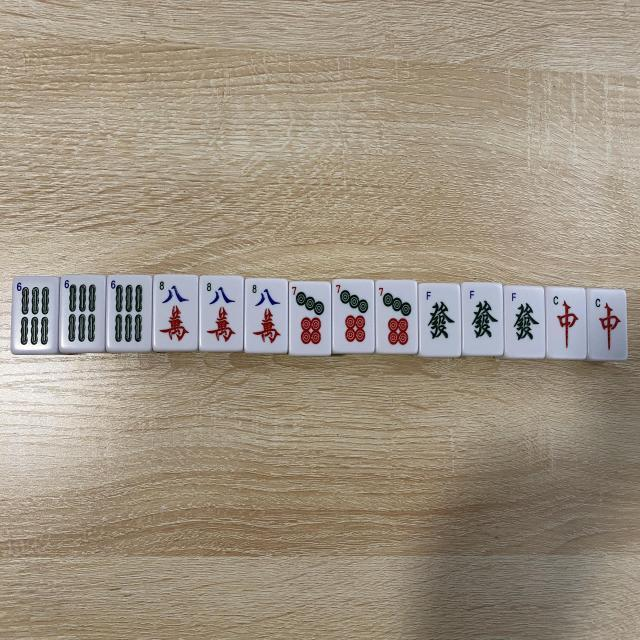hdg: (418, 284, 462, 356), (504, 286, 546, 358), (462, 283, 504, 355)
hdr: (546, 287, 587, 359), (586, 290, 628, 360)
sb6: (13, 278, 57, 353), (61, 276, 104, 352), (108, 278, 150, 350)
sc8: (154, 277, 198, 349), (200, 276, 242, 351), (245, 279, 287, 353)
sd7: (375, 280, 418, 354), (332, 279, 374, 353), (289, 281, 331, 355)
